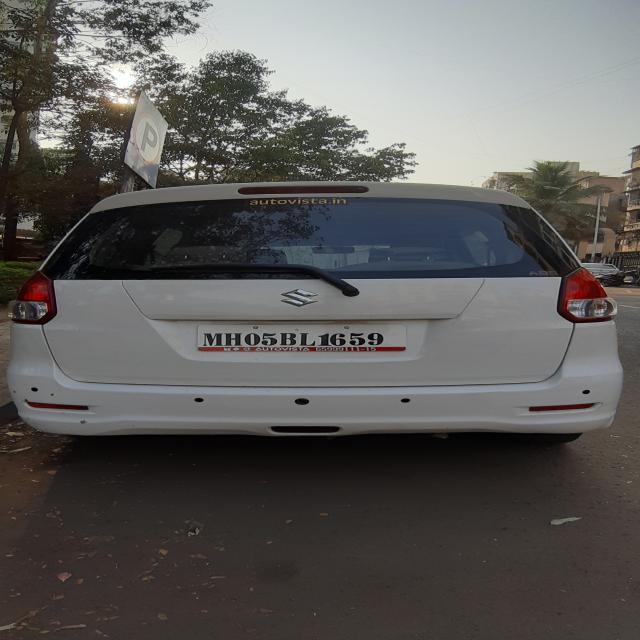Number-Plate: (186, 328, 405, 352)
